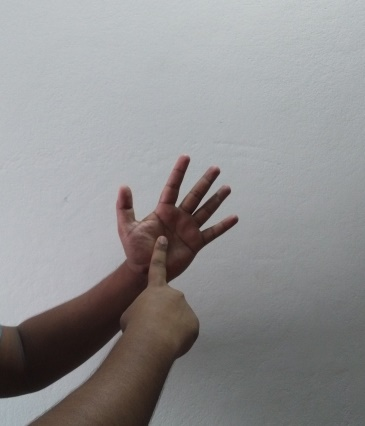oo: (114, 153, 240, 347)
